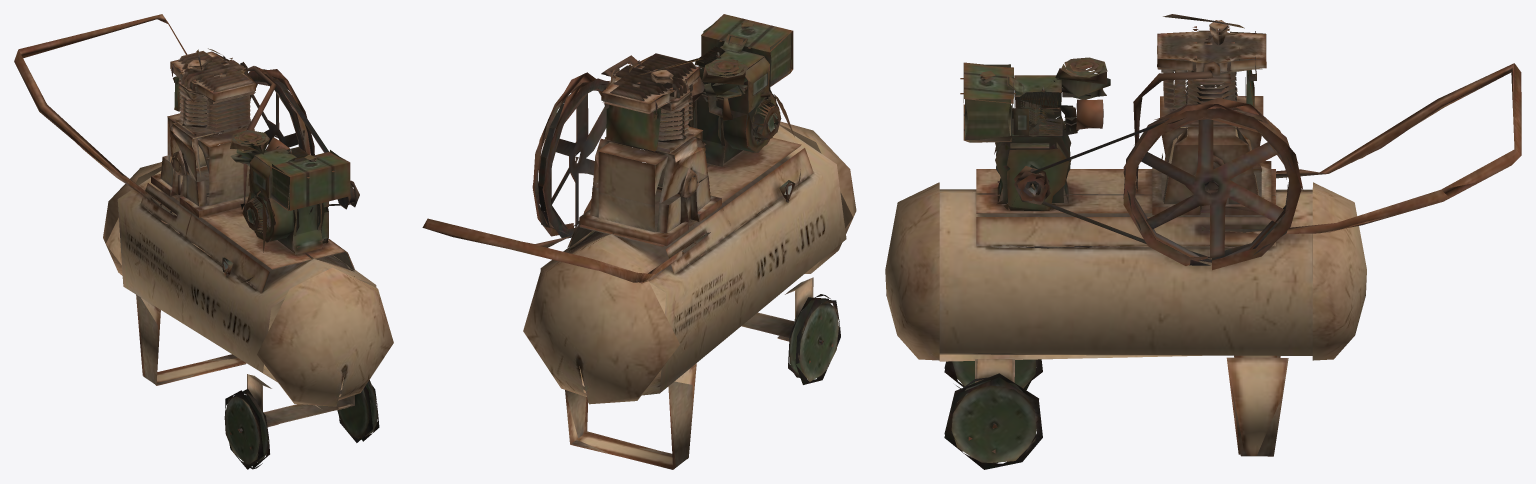
File: old_military_compressor.glb
3 renders of one model, left to right at view 1: azimuth 30°, elevation 25°; view 2: azimuth 150°, elevation 25°; view 3: azimuth 270°, elevation 25°, orthographic. The views are drawn at different scales.
Visible parts, largest first — view 1: old_military_compressor; view 2: old_military_compressor; view 3: old_military_compressor.
Boxes of the visible parts, <box> form: old_military_compressor: <box>14,14,393,469</box>; old_military_compressor: <box>422,14,856,469</box>; old_military_compressor: <box>885,14,1521,469</box>.
Bounding box in the file's own units: 0.5921 × 1.18 × 1.67.
Materials: 2 (2 with a texture image).
